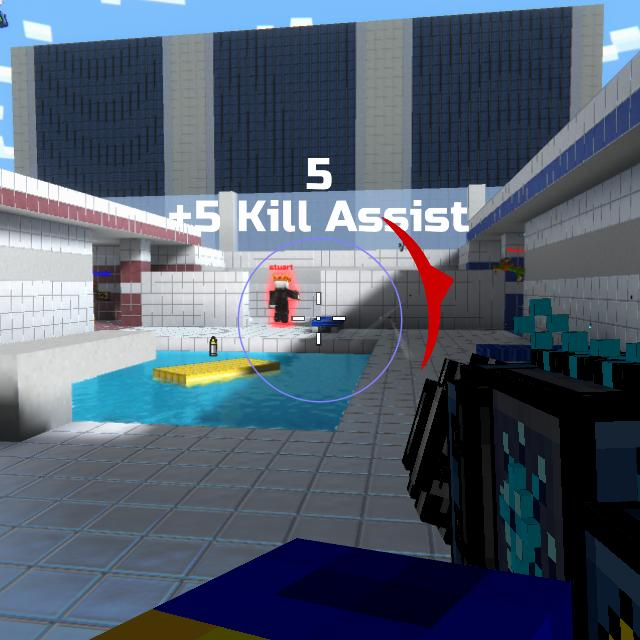Enemy: (269, 275, 299, 322)
